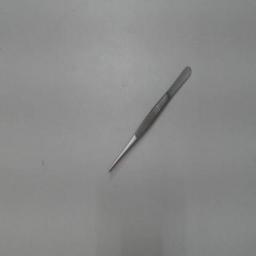Gillies Toothed Dissector: (101, 56, 203, 180)
